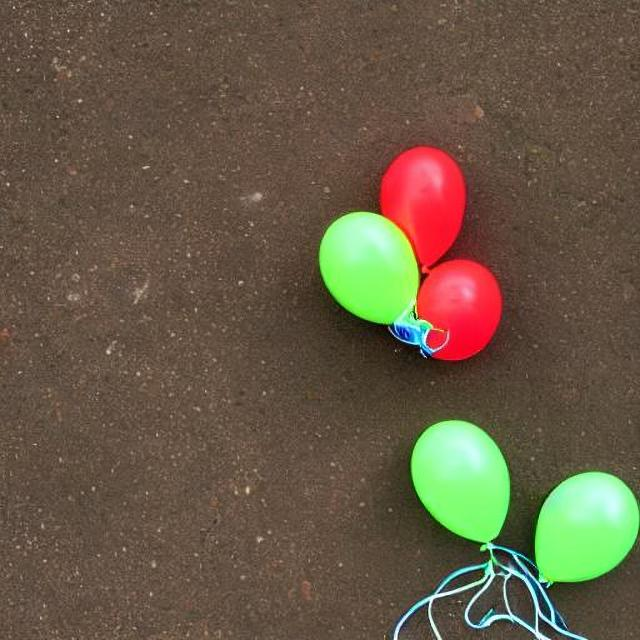balloon: (314, 134, 511, 360), (402, 414, 514, 561), (526, 464, 636, 584)
